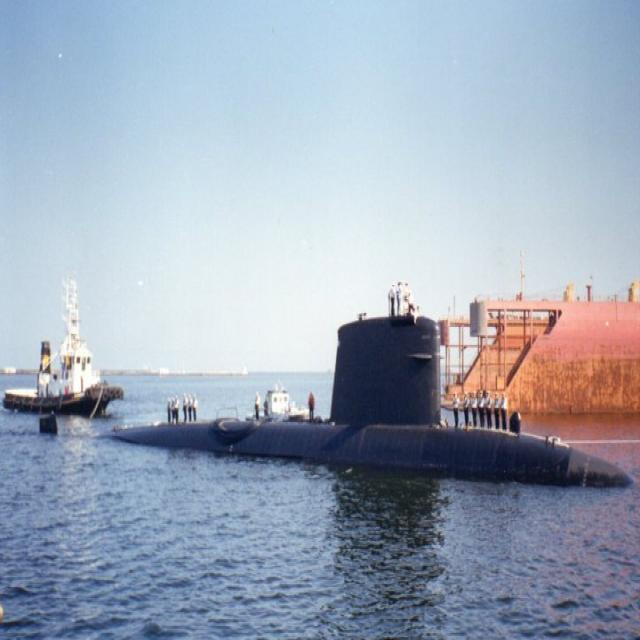submarine: (102, 299, 640, 487)
